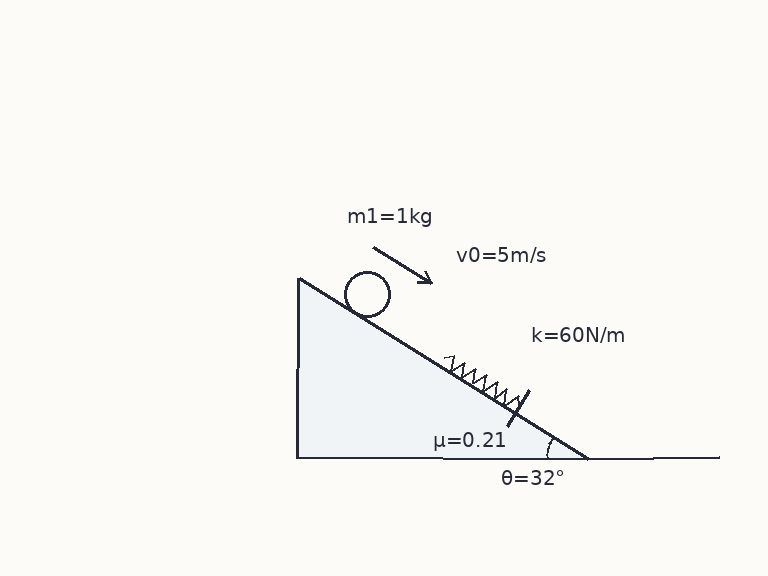ball: (342, 269, 392, 319)
ramp: (296, 275, 589, 460)
spring: (442, 354, 521, 407)
